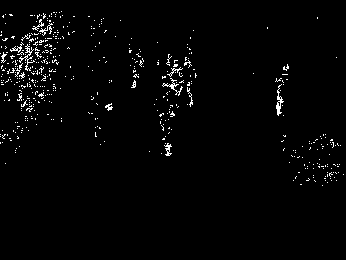person: (276, 64, 290, 116)
